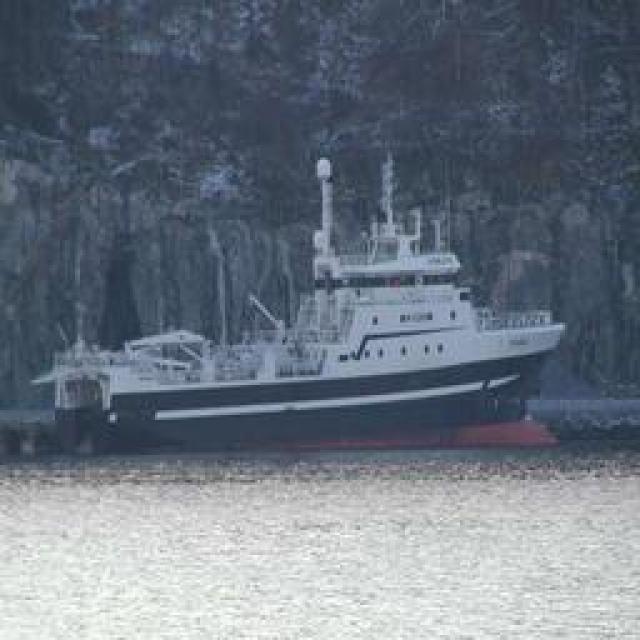Ship: (29, 271, 564, 456)
